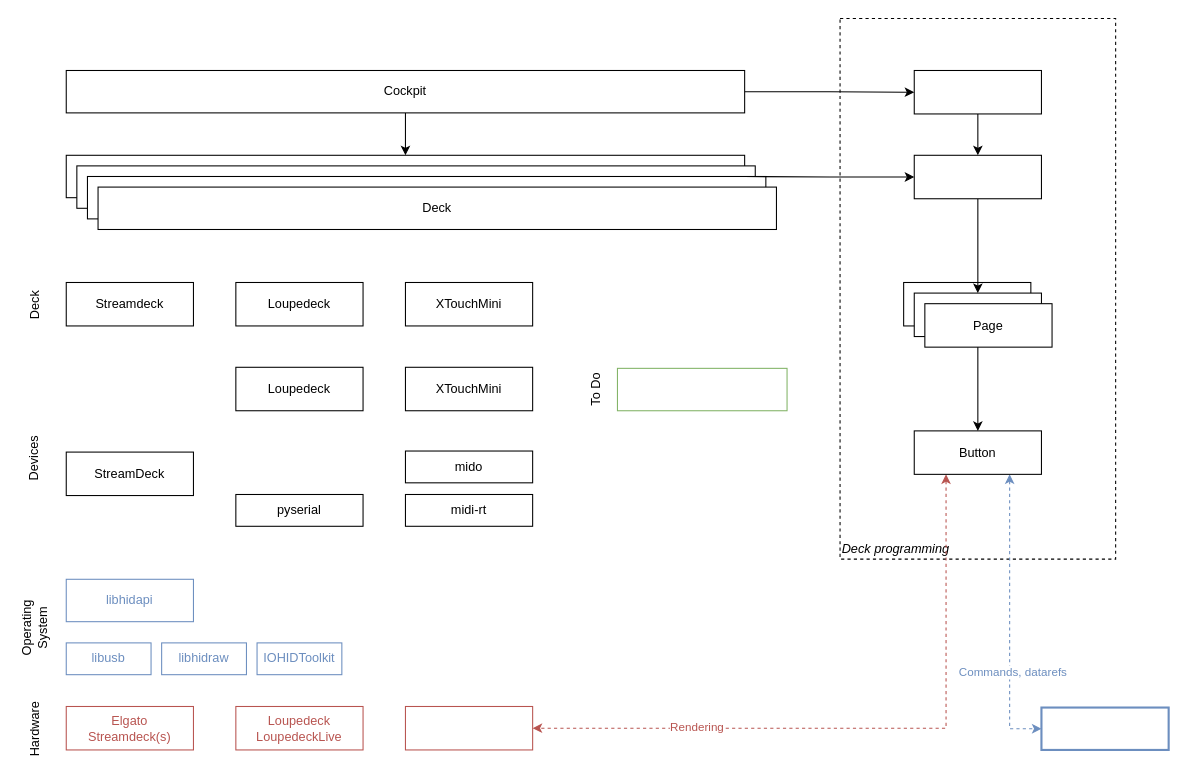
The diagram is 1187 pixels wide and 779 high, and some of its shapes have lost their labels. Here are the shapes that lost their labels. From the top down, the centre of each, then its label:
At (977,91): "Aircraft".
At (977,176): "Layout".
At (701,389): "Open Sound Control".
At (468,727): "Behringer XTouchMini".
At (1104,728): "X-Plane".
